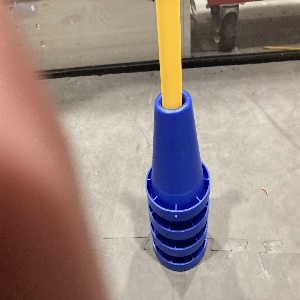Blue_4: (142, 89, 215, 276)
